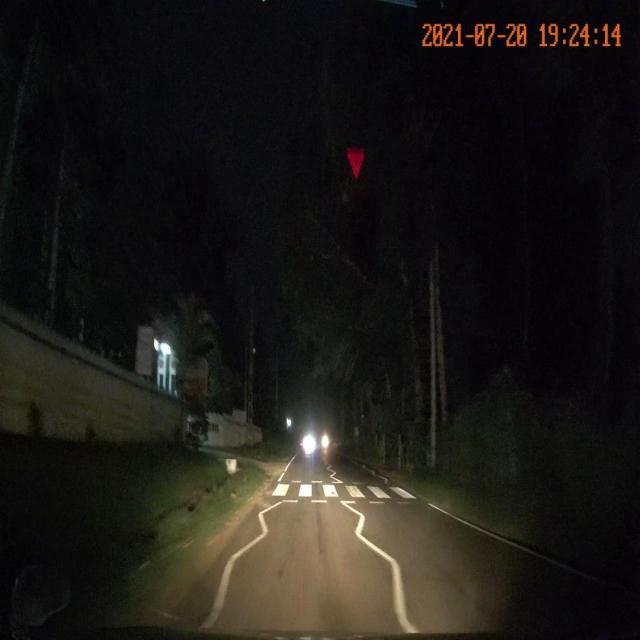Crosswalk: (269, 479, 428, 507)
